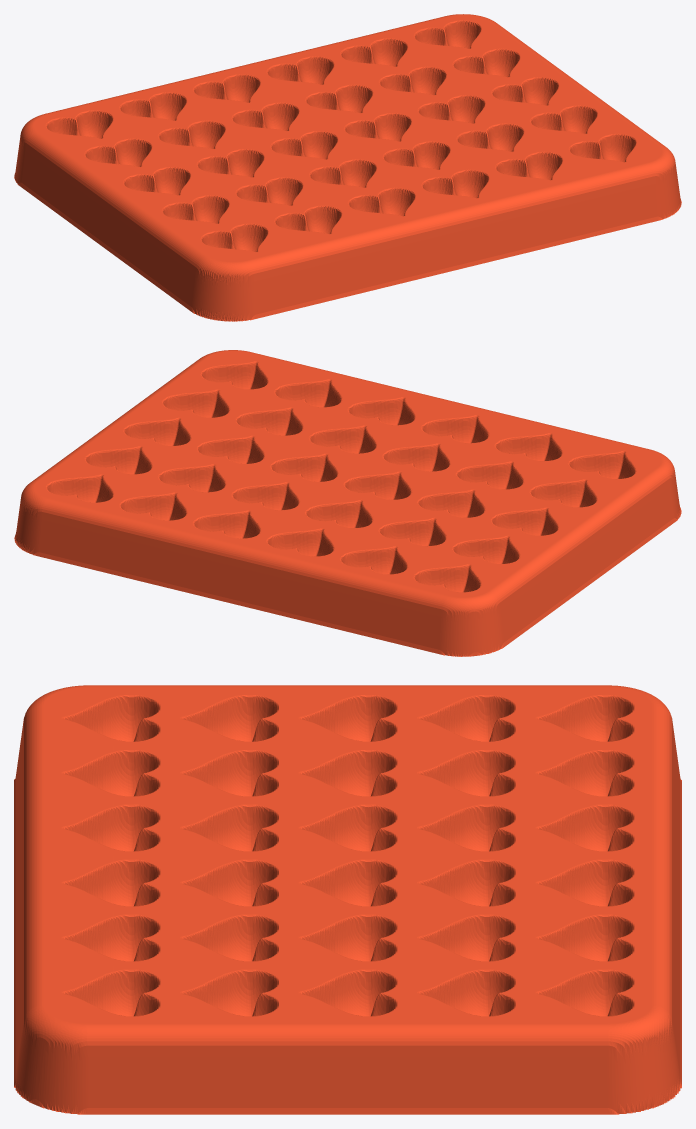
The model's file is mold.glb.
3 renders of one model, top to bottom at view 1: azimuth 30°, elevation 25°; view 2: azimuth 150°, elevation 25°; view 3: azimuth 270°, elevation 25°, orthographic. The views are drawn at different scales.
Parts seen in each view (by area): view 1: geometry_0; view 2: geometry_0; view 3: geometry_0.
Boxes of the visible parts, x1,y1,x2,y2 form: geometry_0: (14,14,681,321); geometry_0: (14,350,681,656); geometry_0: (14,685,681,1114).
Bounding box in the file's own units: 0.104 × 0.0105 × 0.0812.
